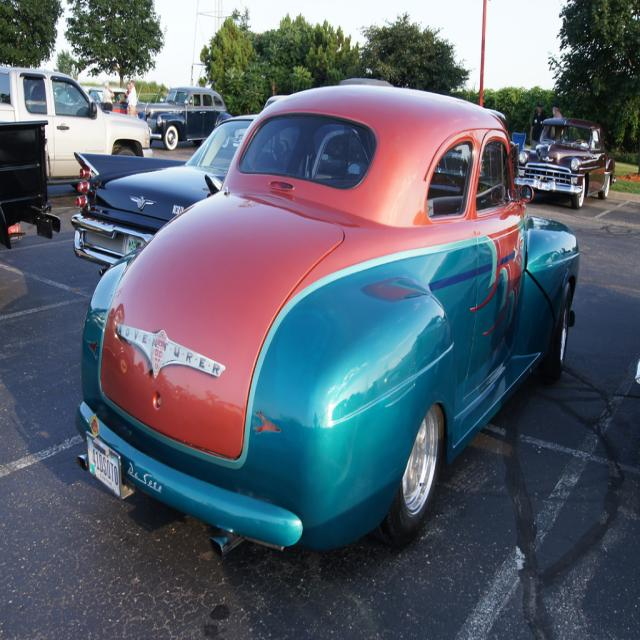car: (69, 87, 564, 561)
